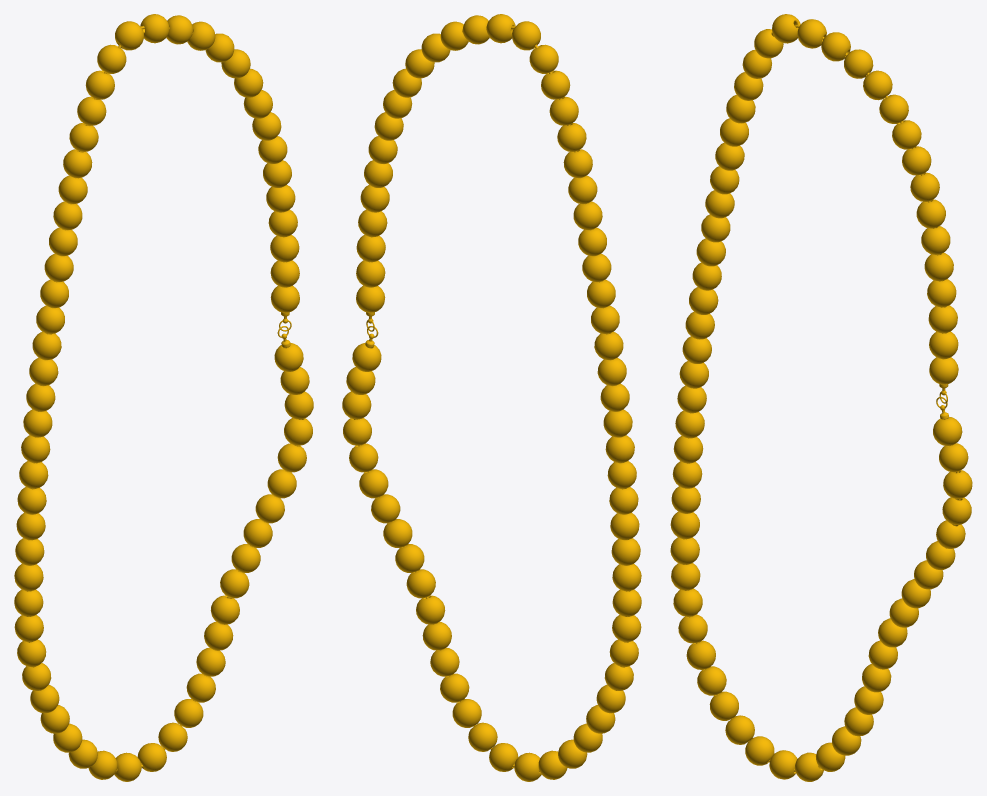
The model's file is 13553_Plastic_Beaded_Necklace-medium_v1_L1.obj.
3 renders of one model, left to right at view 1: azimuth 30°, elevation 25°; view 2: azimuth 150°, elevation 25°; view 3: azimuth 330°, elevation 25°, orthographic.
Visible parts, largest first — view 1: Plastic_Beaded_Necklace_medium_beads52, Plastic_Beaded_Necklace_medium_beads50, Plastic_Beaded_Necklace_medium_beads13, Plastic_Beaded_Necklace_medium_beads37, Plastic_Beaded_Necklace_medium_beads38, Plastic_Beaded_Necklace_medium_beads51, Plastic_Beaded_Necklace_medium_beads14, Plastic_Beaded_Necklace_medium_beads36, Plastic_Beaded_Necklace_medium_beads17, Plastic_Beaded_Necklace_medium_beads18, Plastic_Beaded_Necklace_medium_beads12, Plastic_Beaded_Necklace_medium_beads15 (+52 smaller); view 2: Plastic_Beaded_Necklace_medium_beads52, Plastic_Beaded_Necklace_medium_beads50, Plastic_Beaded_Necklace_medium_beads13, Plastic_Beaded_Necklace_medium_beads37, Plastic_Beaded_Necklace_medium_beads38, Plastic_Beaded_Necklace_medium_beads51, Plastic_Beaded_Necklace_medium_beads14, Plastic_Beaded_Necklace_medium_beads36, Plastic_Beaded_Necklace_medium_beads17, Plastic_Beaded_Necklace_medium_beads18, Plastic_Beaded_Necklace_medium_beads12, Plastic_Beaded_Necklace_medium_beads15 (+52 smaller); view 3: Plastic_Beaded_Necklace_medium_beads33, Plastic_Beaded_Necklace_medium_beads47, Plastic_Beaded_Necklace_medium_beads48, Plastic_Beaded_Necklace_medium_beads55, Plastic_Beaded_Necklace_medium_beads54, Plastic_Beaded_Necklace_medium_beads34, Plastic_Beaded_Necklace_medium_beads49, Plastic_Beaded_Necklace_medium_beads31, Plastic_Beaded_Necklace_medium_beads32, Plastic_Beaded_Necklace_medium_beads46, Plastic_Beaded_Necklace_medium_beads29, Plastic_Beaded_Necklace_medium_beads45 (+52 smaller).
Part boxes in pixels (box(x1,y1,x2,y2)): Plastic_Beaded_Necklace_medium_beads52: box(115, 21, 143, 50); Plastic_Beaded_Necklace_medium_beads50: box(85, 70, 114, 99); Plastic_Beaded_Necklace_medium_beads13: box(267, 469, 296, 498); Plastic_Beaded_Necklace_medium_beads37: box(174, 699, 203, 727); Plastic_Beaded_Necklace_medium_beads38: box(158, 722, 187, 751); Plastic_Beaded_Necklace_medium_beads51: box(97, 44, 126, 73); Plastic_Beaded_Necklace_medium_beads14: box(255, 494, 284, 523); Plastic_Beaded_Necklace_medium_beads36: box(186, 673, 215, 702); Plastic_Beaded_Necklace_medium_beads17: box(220, 569, 249, 598); Plastic_Beaded_Necklace_medium_beads18: box(210, 595, 239, 624); Plastic_Beaded_Necklace_medium_beads12: box(277, 443, 306, 472); Plastic_Beaded_Necklace_medium_beads15: box(243, 519, 272, 547); Plastic_Beaded_Necklace_medium_beads52: box(512, 21, 540, 50); Plastic_Beaded_Necklace_medium_beads50: box(541, 70, 570, 99); Plastic_Beaded_Necklace_medium_beads13: box(359, 469, 388, 498); Plastic_Beaded_Necklace_medium_beads37: box(452, 699, 481, 727); Plastic_Beaded_Necklace_medium_beads38: box(468, 722, 497, 751); Plastic_Beaded_Necklace_medium_beads51: box(529, 44, 558, 73); Plastic_Beaded_Necklace_medium_beads14: box(371, 494, 400, 523); Plastic_Beaded_Necklace_medium_beads36: box(440, 673, 469, 702); Plastic_Beaded_Necklace_medium_beads17: box(406, 569, 435, 598); Plastic_Beaded_Necklace_medium_beads18: box(416, 595, 445, 624); Plastic_Beaded_Necklace_medium_beads12: box(349, 443, 378, 472); Plastic_Beaded_Necklace_medium_beads15: box(383, 519, 412, 547); Plastic_Beaded_Necklace_medium_beads33: box(725, 715, 754, 744); Plastic_Beaded_Necklace_medium_beads47: box(892, 120, 921, 149); Plastic_Beaded_Necklace_medium_beads48: box(879, 94, 908, 123); Plastic_Beaded_Necklace_medium_beads55: box(844, 49, 873, 78); Plastic_Beaded_Necklace_medium_beads54: box(821, 32, 850, 61); Plastic_Beaded_Necklace_medium_beads34: box(745, 736, 774, 765); Plastic_Beaded_Necklace_medium_beads49: box(863, 70, 892, 100); Plastic_Beaded_Necklace_medium_beads31: box(697, 666, 726, 695); Plastic_Beaded_Necklace_medium_beads32: box(709, 691, 738, 720); Plastic_Beaded_Necklace_medium_beads46: box(902, 146, 931, 175); Plastic_Beaded_Necklace_medium_beads29: box(678, 614, 707, 643); Plastic_Beaded_Necklace_medium_beads45: box(910, 172, 939, 201).
Size of the model in its own units: 3.22 by 7.88 by 0.2771.
